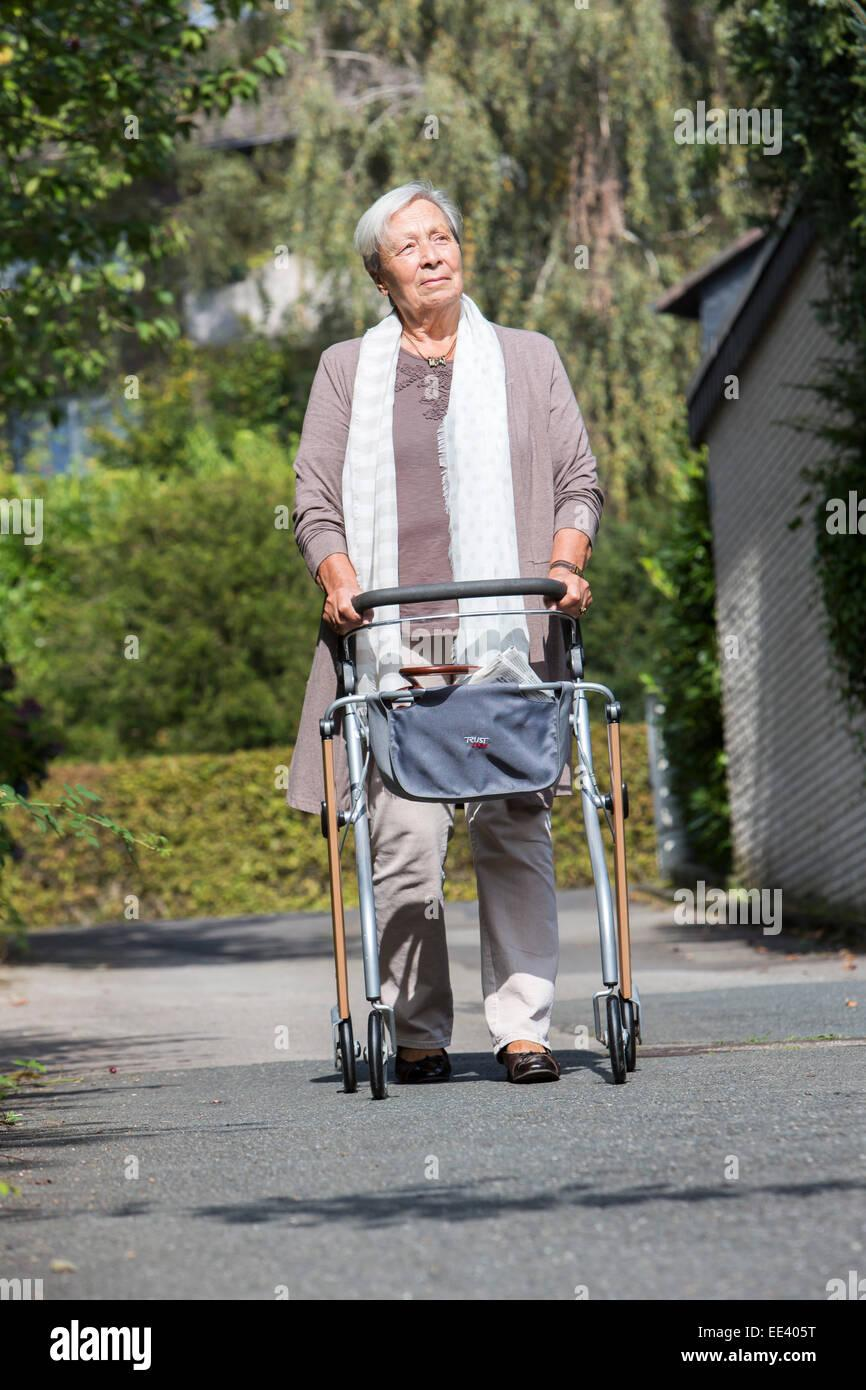walking_frame: (284, 183, 643, 1101)
